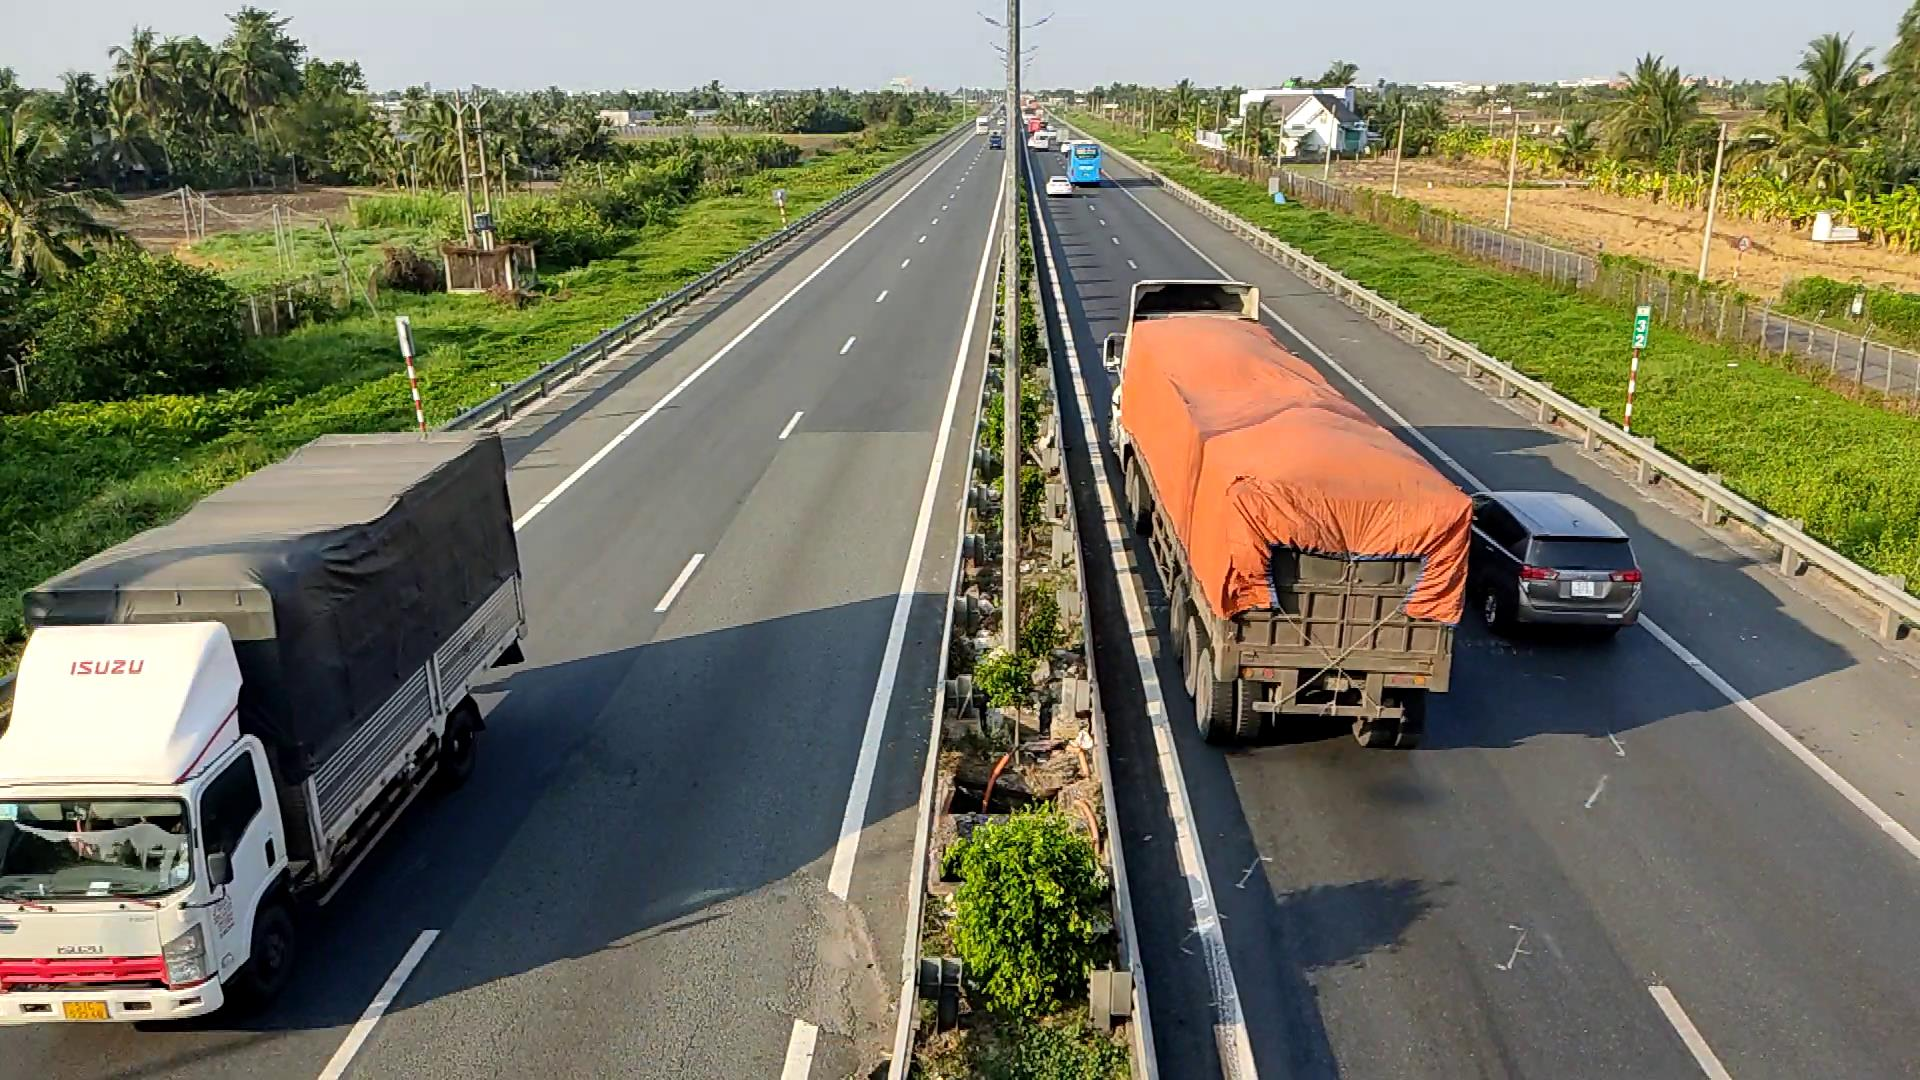truck: (0, 425, 527, 1027), (1106, 276, 1474, 750)
